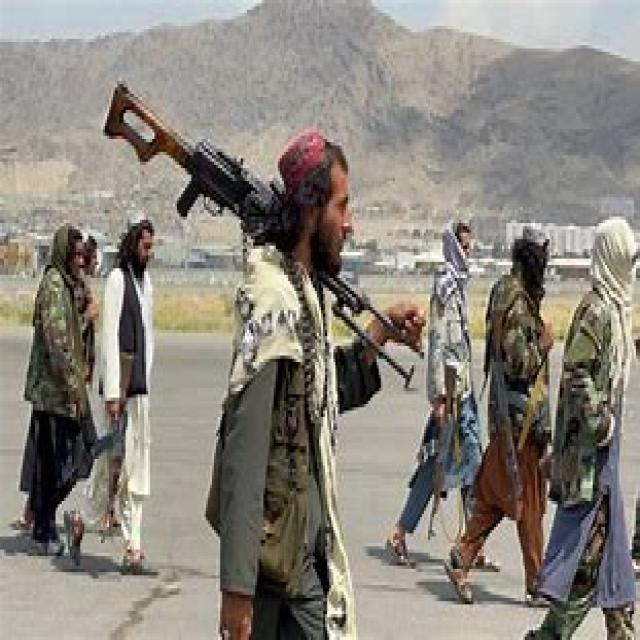civilian: (525, 217, 636, 637), (19, 223, 95, 553)
terrorist: (105, 84, 420, 637), (447, 226, 552, 598), (387, 220, 479, 562), (64, 213, 152, 569)
